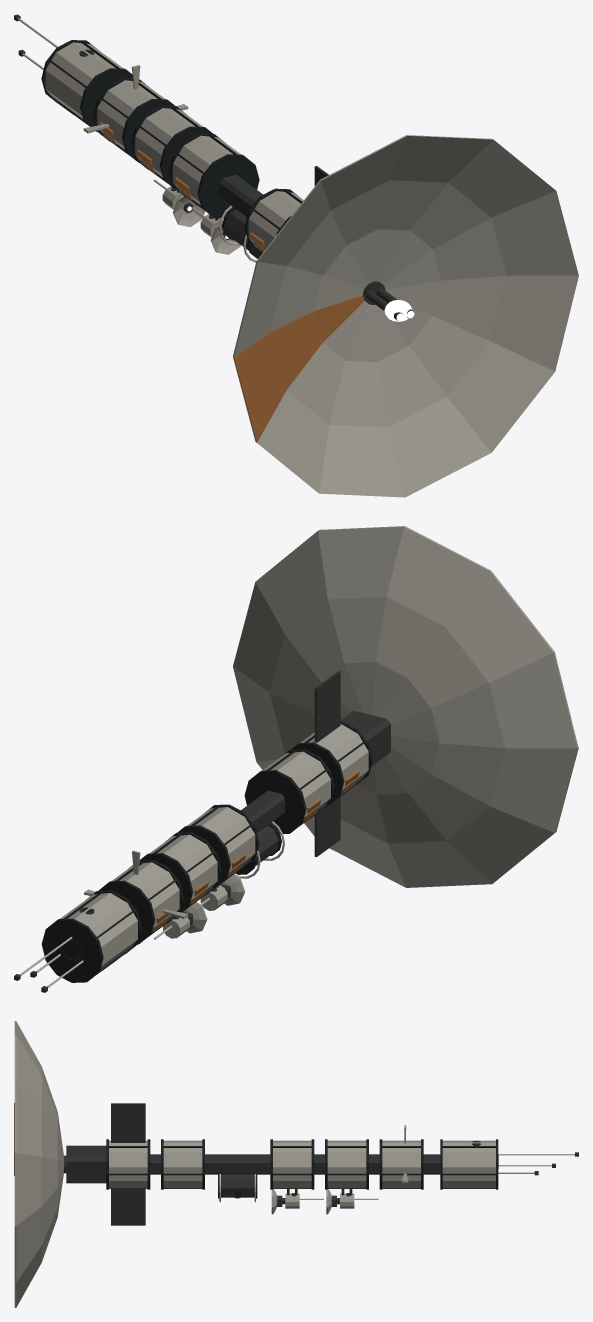
3 renders of one model, top to bottom at view 1: azimuth 30°, elevation 25°; view 2: azimuth 150°, elevation 25°; view 3: azimuth 270°, elevation 25°, orthographic. The views are drawn at different scales.
Visible parts, largest first — view 1: RIMWARD_HULL; view 2: RIMWARD_HULL; view 3: RIMWARD_HULL.
Boxes of the visible parts, x1=… form: RIMWARD_HULL: x1=14, y1=14, x2=578, y2=497; RIMWARD_HULL: x1=14, y1=526, x2=578, y2=992; RIMWARD_HULL: x1=14, y1=1021, x2=578, y2=1307.
Bounding box in the file's own units: 16 × 16 × 31.42.
